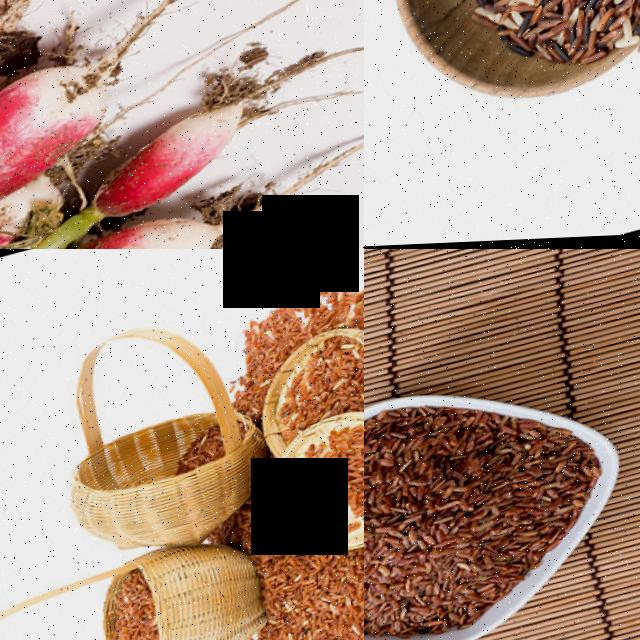radishes: (0, 0, 337, 249)
red rice: (364, 364, 636, 640), (446, 0, 640, 75), (264, 333, 364, 442), (256, 542, 364, 640), (286, 419, 364, 549), (107, 568, 186, 640), (234, 309, 299, 378)
